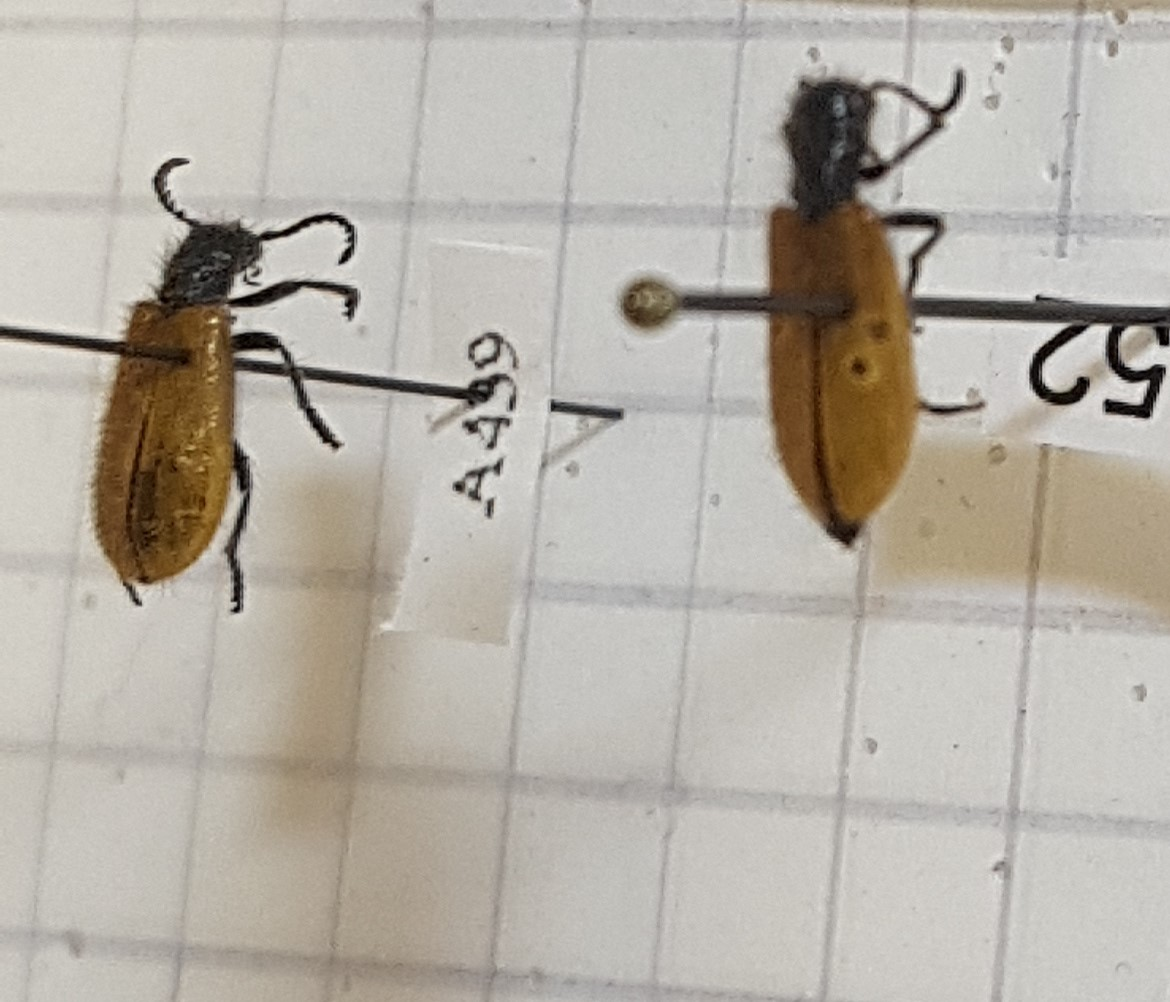tillus_pallidipennis: (80, 152, 376, 633), (755, 30, 996, 597)
